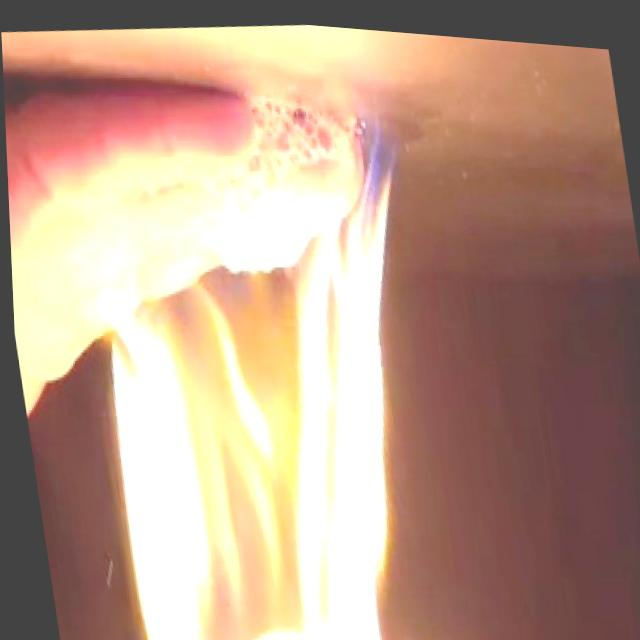helmet: (45, 91, 463, 640)
